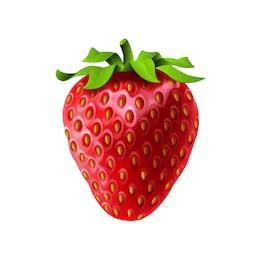Fresa: (60, 59, 201, 224)
